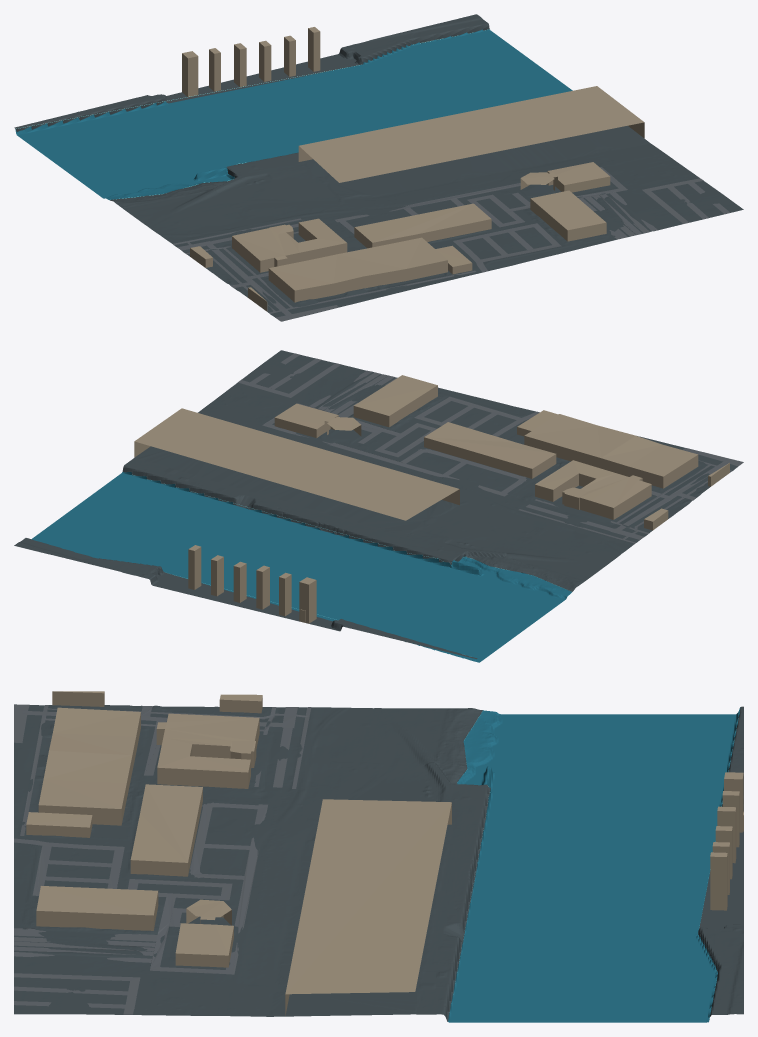
Rendered from epsg26910-1443-10880.lod0.glb.
3 renders of one model, top to bottom at view 1: azimuth 30°, elevation 25°; view 2: azimuth 150°, elevation 25°; view 3: azimuth 270°, elevation 25°, orthographic. The views are drawn at different scales.
Parts seen in each view (by area): view 1: epsg26910-1443-10880-lod0; view 2: epsg26910-1443-10880-lod0; view 3: epsg26910-1443-10880-lod0.
Boxes of the visible parts, x1=… form: epsg26910-1443-10880-lod0: x1=14, y1=14, x2=743, y2=321; epsg26910-1443-10880-lod0: x1=14, y1=350, x2=743, y2=662; epsg26910-1443-10880-lod0: x1=14, y1=691, x2=743, y2=1022.
Size of the model in its own units: 384 by 31.06 by 384.
